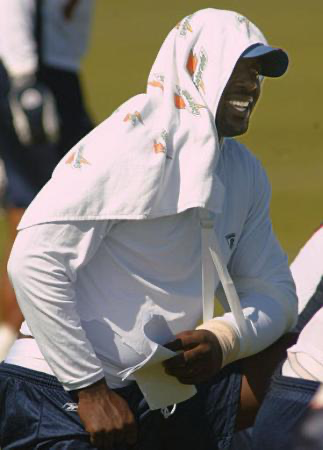Face: (219, 55, 271, 141)
